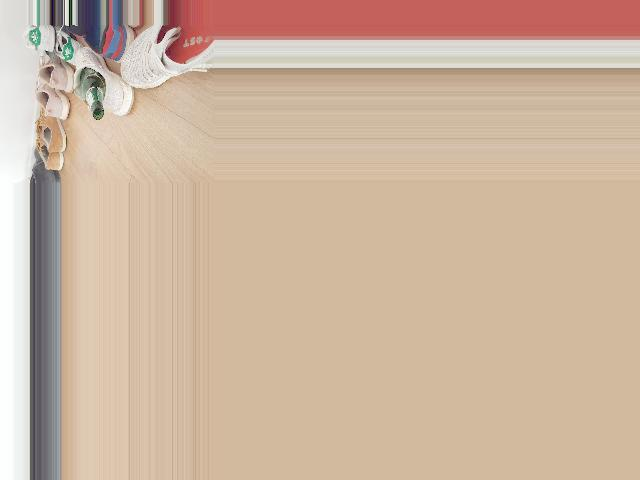beer: (80, 68, 105, 120)
